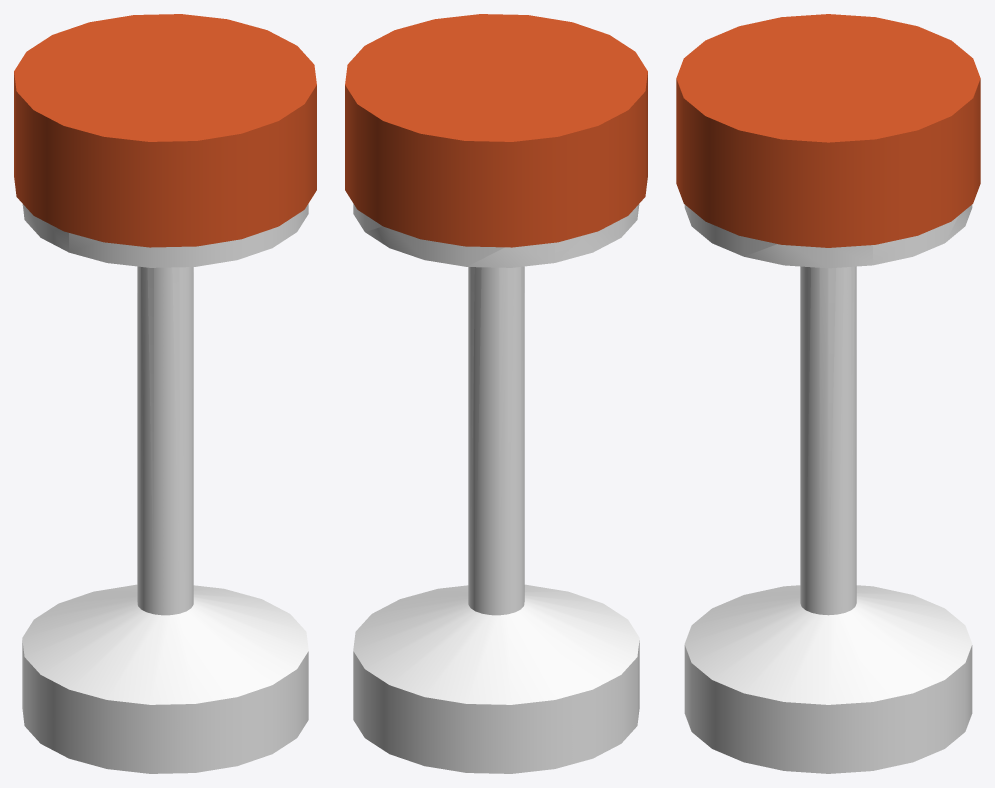
The model's file is Seat.fbx.
The picture shows the model from 3 angles, left to right: view 1: azimuth 30°, elevation 25°; view 2: azimuth 150°, elevation 25°; view 3: azimuth 270°, elevation 25°; orthographic projection.
Visible parts, largest first — view 1: Seat1; view 2: Seat1; view 3: Seat1.
Boxes of the visible parts, x1=… form: Seat1: x1=14, y1=14, x2=316, y2=773; Seat1: x1=345, y1=14, x2=647, y2=773; Seat1: x1=676, y1=14, x2=980, y2=773.
Bounding box in the file's own units: 0.9224 × 2.12 × 0.9224.
